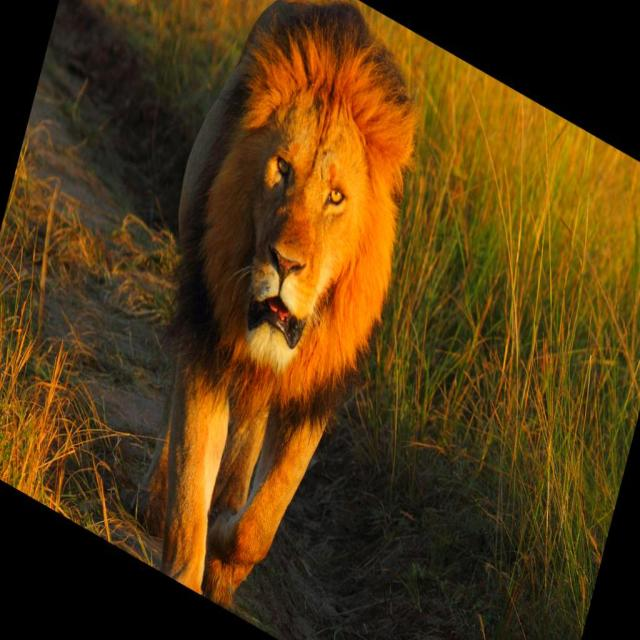Lion: (92, 0, 452, 639)
